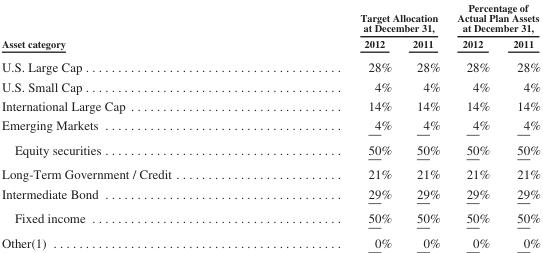table: (0, 0, 540, 249)
table column: (0, 0, 265, 249), (265, 0, 401, 249), (448, 0, 500, 249), (401, 0, 448, 249), (500, 0, 540, 249)
table column header: (0, 0, 540, 54)
table row: (0, 0, 540, 35), (0, 205, 540, 230), (0, 137, 540, 161), (0, 54, 540, 76), (0, 115, 540, 137), (0, 161, 540, 183), (0, 183, 540, 205), (0, 95, 540, 115), (0, 35, 540, 54), (0, 76, 540, 95), (0, 230, 540, 249)
table spanning cell: (0, 0, 265, 54), (265, 0, 448, 35), (448, 0, 540, 35)
